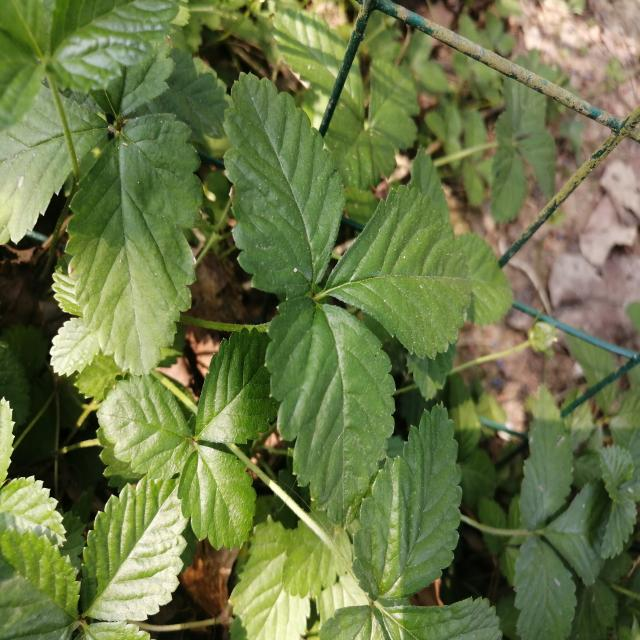Mock_strawberry: (229, 85, 482, 493)
